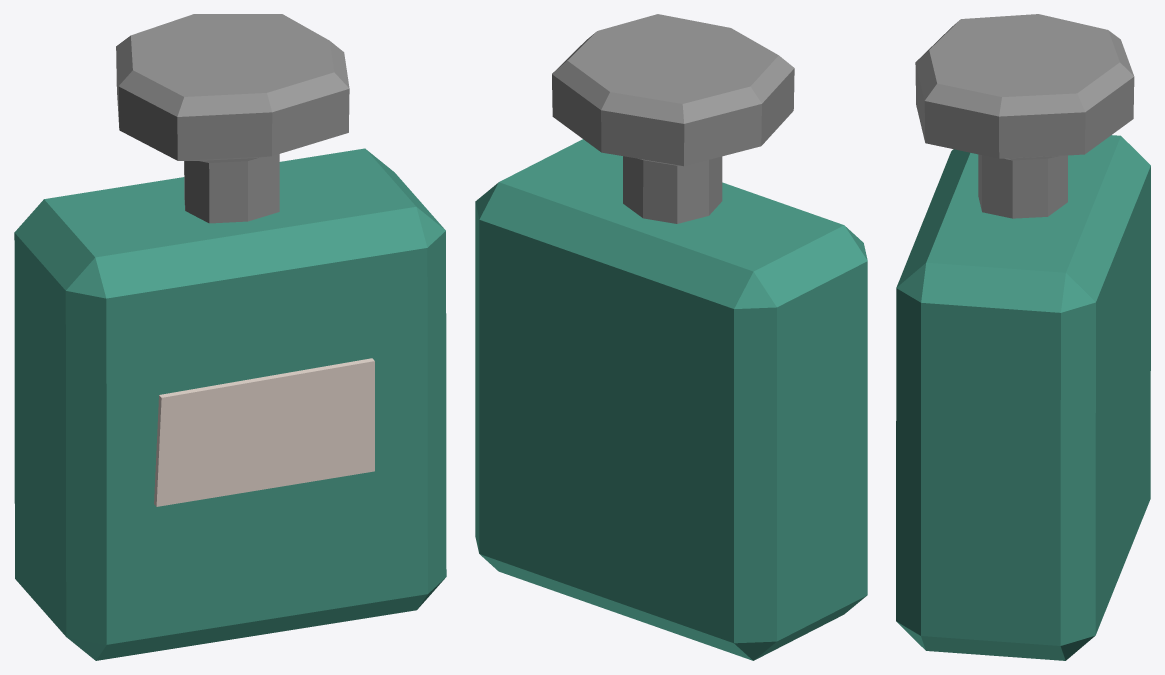
Rendered from Perfume_1.fbx.
The picture shows the model from 3 angles, left to right: view 1: azimuth 30°, elevation 25°; view 2: azimuth 150°, elevation 25°; view 3: azimuth 270°, elevation 25°; orthographic projection. The views are drawn at different scales.
Parts seen in each view (by area): view 1: Perfume_1; view 2: Perfume_1; view 3: Perfume_1.
Part boxes in pixels (left/top/right/bottom): Perfume_1: left=14, top=14, right=446, bottom=660; Perfume_1: left=475, top=14, right=867, bottom=660; Perfume_1: left=896, top=14, right=1150, bottom=660.
Size of the model in its own units: 16.15 by 10.07 by 23.18.
